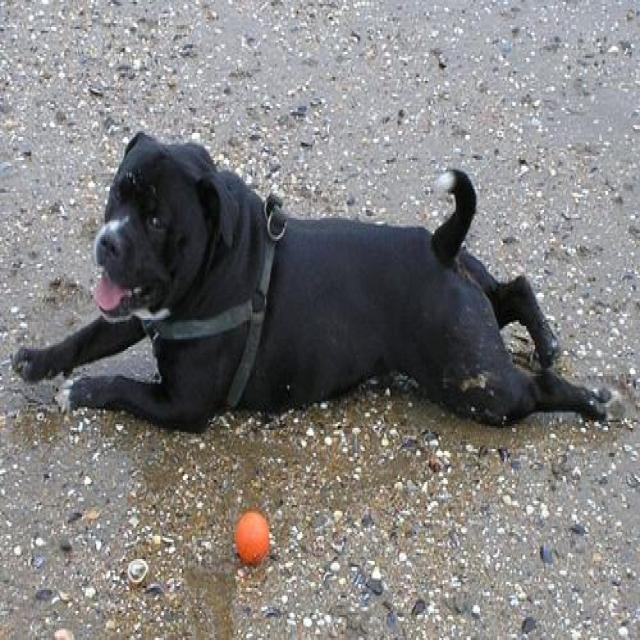staffordshire_bullterrier: (12, 125, 627, 438)
